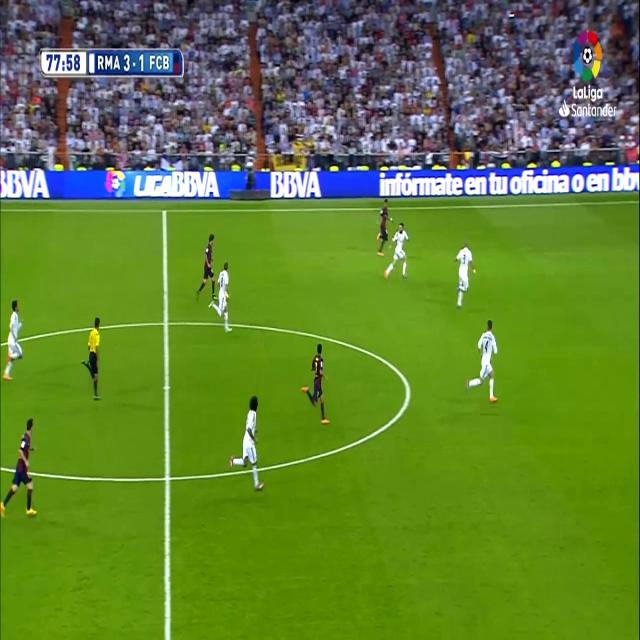halfcircle_bottom: (158, 455, 177, 501)
halfcircle_top: (158, 304, 174, 342)
midline_bottom_intersection: (158, 456, 177, 502)
midline_top_intersection: (158, 202, 171, 224)
